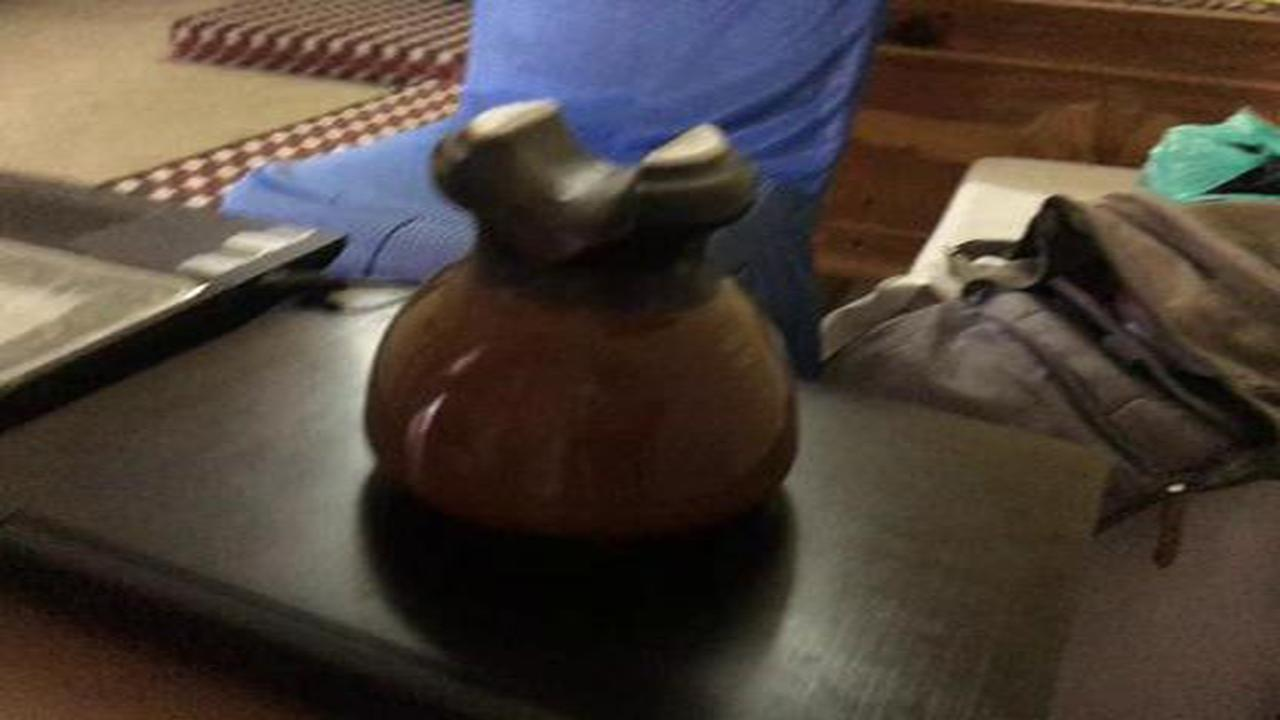insulator_pin: (345, 84, 822, 572)
